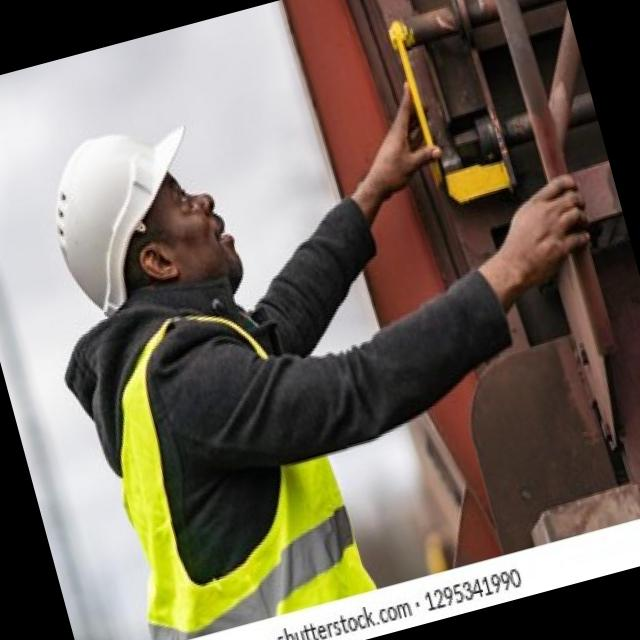Helmet: (30, 120, 228, 332)
Vest: (77, 288, 376, 640)
